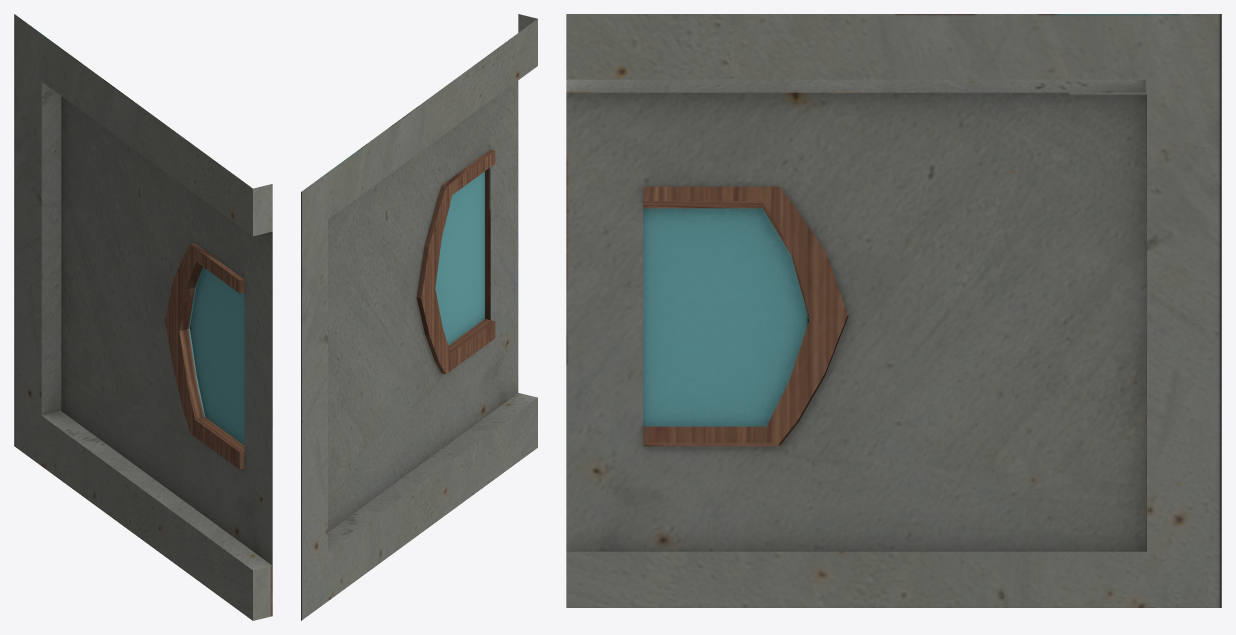
File: SingleWIndow16.fbx
The picture shows the model from 3 angles, left to right: view 1: azimuth 30°, elevation 25°; view 2: azimuth 150°, elevation 25°; view 3: azimuth 270°, elevation 25°; orthographic projection. The views are drawn at different scales.
Parts seen in each view (by area): view 1: Plane.003; view 2: Plane.003; view 3: Plane.003.
Boxes of the visible parts, <box> form: Plane.003: <box>14,14,272,620</box>; Plane.003: <box>301,14,537,620</box>; Plane.003: <box>566,14,1221,607</box>.
Size of the model in its own units: 6.12 by 100 by 100.
